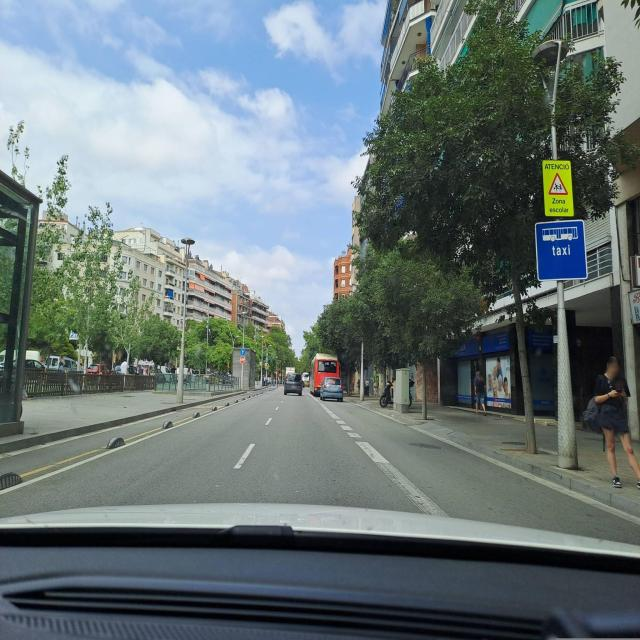car: (320, 377, 344, 402), (48, 356, 84, 372), (283, 374, 303, 396), (378, 383, 394, 407), (86, 364, 112, 376), (302, 372, 310, 387)
